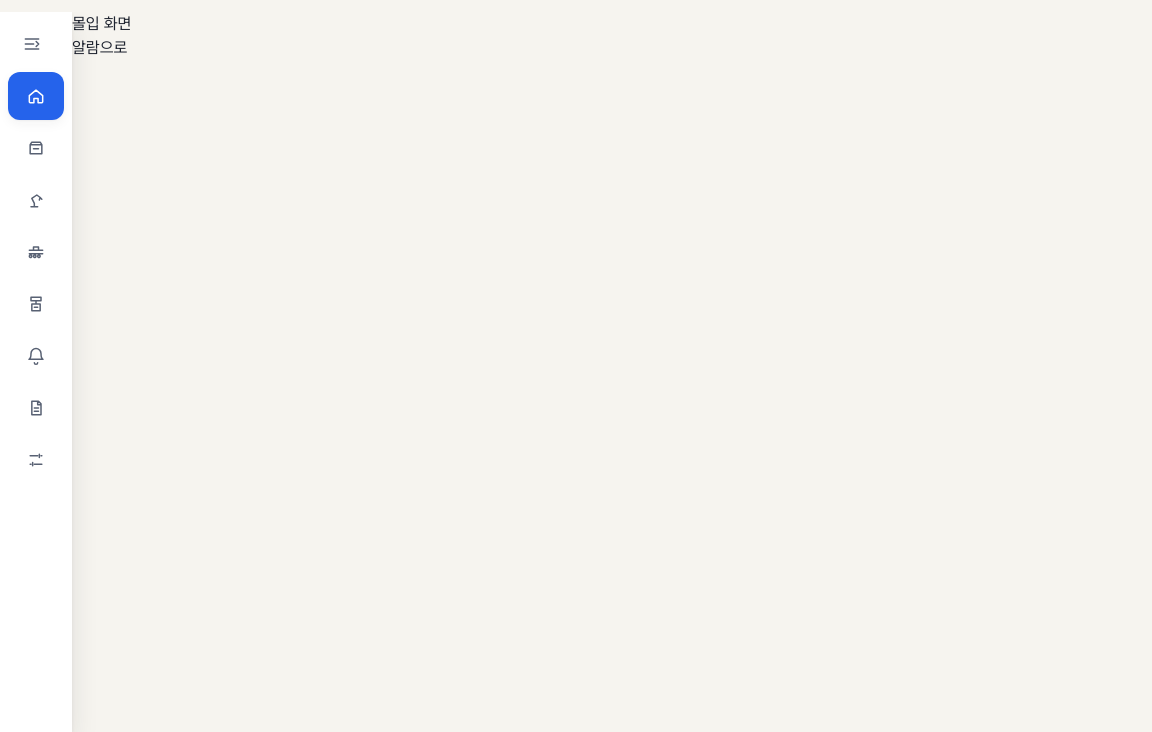
Test case: AppShell: 화면이 틀을 넘겨받는다 (shellChrome) › 그 화면을 벗어나면 틀의 바가 돌아오고, 사이드바 폭은 바뀌지 않는다
Click the link "알람으로".
click(100, 48)  # box [72, 38, 127, 57]
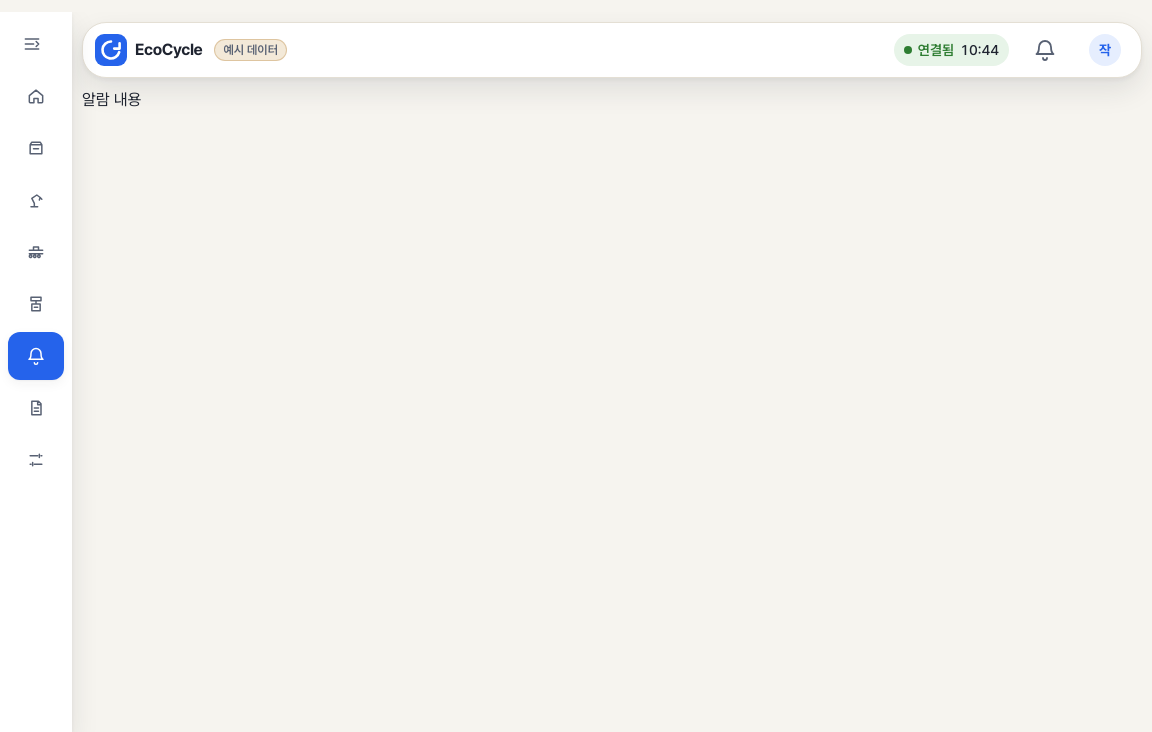
Expected: the element showing "알람 내용" is shown, [82, 90, 141, 109]
Expected: the header is shown, [82, 22, 1142, 78]
